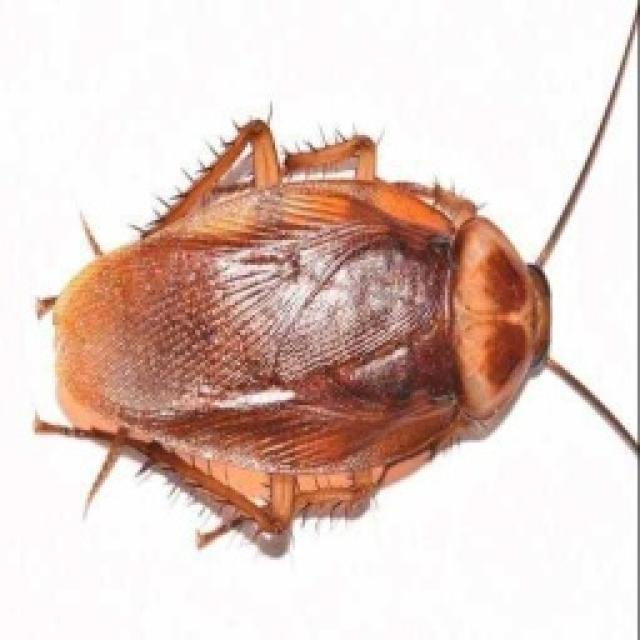cockroach: (20, 101, 609, 559)
